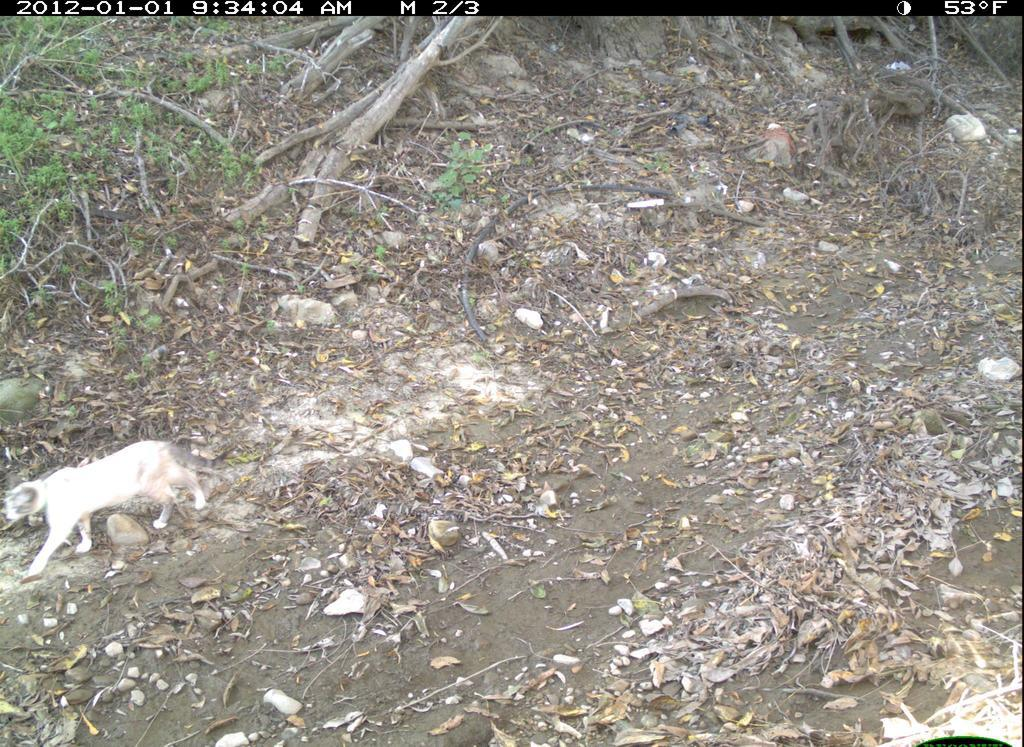cat: (2, 432, 237, 582)
